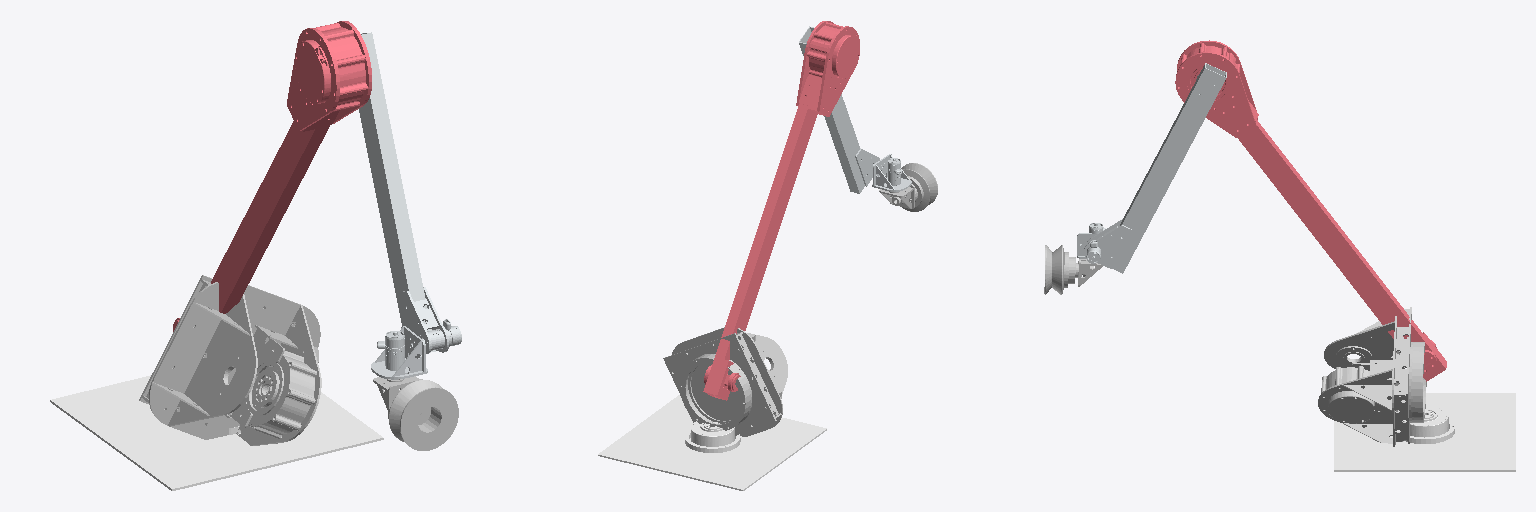
robot.urdf — ur3:
<?xml version="1.0"?>
<!-- This URDF was automatically created by SolidWorks to URDF Exporter! Originally created by [author] ([email redacted]) 
     Commit Version: 1.6.0-4-g7f85cfe  Build Version: 1.6.7995.38578
     For more information, please see http://wiki.ros.org/sw_urdf_exporter -->
<robot
  name="ur3">
  <link
    name="base_link">
    <inertial>
      <origin
        xyz="-0.00236851525411673 -0.0914599040453619 -0.0483488224481423"
        rpy="0 0 0" />
      <mass
        value="0.307597058200449" />
      <inertia
        ixx="0.00204699850221297"
        ixy="-4.93288590145135E-09"
        ixz="6.85614256249405E-09"
        iyy="0.00408883622059482"
        iyz="1.76872405583318E-07"
        izz="0.00204583360048627" />
    </inertial>
    <visual>
      <origin
        xyz="0 0 0"
        rpy="0 0 0" />
      <geometry>
        <mesh
          filename="package://ur3/meshes/base_link.STL" />
      </geometry>
      <material
        name="">
        <color
          rgba="1 1 1 1" />
      </material>
    </visual>
    <collision>
      <origin
        xyz="0 0 0"
        rpy="0 0 0" />
      <geometry>
        <mesh
          filename="package://ur3/meshes/base_link.STL" />
      </geometry>
    </collision>
  </link>
  <link
    name="link1">
    <inertial>
      <origin
        xyz="0.0001636 -0.042632 1.5328E-06"
        rpy="0 0 0" />
      <mass
        value="1.5305" />
      <inertia
        ixx="0.0031739"
        ixy="-2.7582E-06"
        ixz="-1.0021E-07"
        iyy="0.0055642"
        iyz="-7.846E-08"
        izz="0.0028564" />
    </inertial>
    <visual>
      <origin
        xyz="0 0 0"
        rpy="0 0 0" />
      <geometry>
        <mesh
          filename="package://ur3/meshes/link1.STL" />
      </geometry>
      <material
        name="">
        <color
          rgba="0.84706 0.84706 0.84706 1" />
      </material>
    </visual>
    <collision>
      <origin
        xyz="0 0 0"
        rpy="0 0 0" />
      <geometry>
        <mesh
          filename="package://ur3/meshes/link1.STL" />
      </geometry>
    </collision>
  </link>
  <joint
    name="joint1"
    type="continuous">
    <origin
      xyz="-0.0023709 0.0485 0"
      rpy="1.5708 0 -0.047443" />
    <parent
      link="base_link" />
    <child
      link="link1" />
    <axis
      xyz="0 1 0" />
    <limit
      lower="-3.14"
      upper="3.14"
      effort="30"
      velocity="1" />
  </joint>
  <link
    name="link2">
    <inertial>
      <origin
        xyz="-0.40969 3.6574E-06 0.029841"
        rpy="0 0 0" />
      <mass
        value="0.74064" />
      <inertia
        ixx="0.00034396"
        ixy="7.8456E-08"
        ixz="1.6526E-08"
        iyy="0.0088077"
        iyz="1.0021E-07"
        izz="0.0090847" />
    </inertial>
    <visual>
      <origin
        xyz="0 0 0"
        rpy="0 0 0" />
      <geometry>
        <mesh
          filename="package://ur3/meshes/link2.STL" />
      </geometry>
      <material
        name="">
        <color
          rgba="1 0.52941 0.58039 1" />
      </material>
    </visual>
    <collision>
      <origin
        xyz="0 0 0"
        rpy="0 0 0" />
      <geometry>
        <mesh
          filename="package://ur3/meshes/link2.STL" />
      </geometry>
    </collision>
  </link>
  <joint
    name="joint2"
    type="revolute">
    <origin
      xyz="-0.05 0.035944 0"
      rpy="-1.5708 0.62106 -1.5708" />
    <parent
      link="link1" />
    <child
      link="link2" />
    <axis
      xyz="0 0 1" />
    <limit
      lower="-3.14"
      upper="3.14"
      effort="30"
      velocity="1" />
  </joint>
  <link
    name="link3">
    <inertial>
      <origin
        xyz="0.01335 -0.040537 0.2233"
        rpy="0 0 0" />
      <mass
        value="0.3145" />
      <inertia
        ixx="0.0024763"
        ixy="2.5218E-08"
        ixz="-1.4224E-06"
        iyy="0.0025071"
        iyz="4.7937E-08"
        izz="6.2526E-05" />
    </inertial>
    <visual>
      <origin
        xyz="0 0 0"
        rpy="0 0 0" />
      <geometry>
        <mesh
          filename="package://ur3/meshes/link3.STL" />
      </geometry>
      <material
        name="">
        <color
          rgba="0.89804 0.91765 0.92941 1" />
      </material>
    </visual>
    <collision>
      <origin
        xyz="0 0 0"
        rpy="0 0 0" />
      <geometry>
        <mesh
          filename="package://ur3/meshes/link3.STL" />
      </geometry>
    </collision>
  </link>
  <joint
    name="joint3"
    type="continuous">
    <origin
      xyz="-0.61685 0 0.029073"
      rpy="-1.5708 0 -2.6349" />
    <parent
      link="link2" />
    <child
      link="link3" />
    <axis
      xyz="0 -1 0" />
    <limit
      lower="-3.14"
      upper="3.14"
      effort="30"
      velocity="1" />
  </joint>
  <link
    name="link4">
    <inertial>
      <origin
        xyz="0.0063803 0.0059501 0.0098396"
        rpy="0 0 0" />
      <mass
        value="0.13985" />
      <inertia
        ixx="2.1313E-05"
        ixy="4.4157E-06"
        ixz="-3.2872E-07"
        iyy="2.1316E-05"
        iyz="-1.6133E-07"
        izz="2.1126E-05" />
    </inertial>
    <visual>
      <origin
        xyz="0 0 0"
        rpy="0 0 0" />
      <geometry>
        <mesh
          filename="package://ur3/meshes/link4.STL" />
      </geometry>
      <material
        name="">
        <color
          rgba="0.89804 0.91765 0.92941 1" />
      </material>
    </visual>
    <collision>
      <origin
        xyz="0 0 0"
        rpy="0 0 0" />
      <geometry>
        <mesh
          filename="package://ur3/meshes/link4.STL" />
      </geometry>
    </collision>
  </link>
  <joint
    name="joint4"
    type="continuous">
    <origin
      xyz="0.04 0 0.35185"
      rpy="1.5708 -0.35974 3.1416" />
    <parent
      link="link3" />
    <child
      link="link4" />
    <axis
      xyz="0 0 1" />
    <limit
      lower="-3.14"
      upper="3.14"
      effort="10"
      velocity="1" />
  </joint>
  <link
    name="link5">
    <inertial>
      <origin
        xyz="-0.049458 0.039637 -1.7969E-11"
        rpy="0 0 0" />
      <mass
        value="0.19368" />
      <inertia
        ixx="0.00011139"
        ixy="3.4453E-07"
        ixz="1.2508E-14"
        iyy="9.9753E-05"
        iyz="-1.1015E-14"
        izz="9.7213E-05" />
    </inertial>
    <visual>
      <origin
        xyz="0 0 0"
        rpy="0 0 0" />
      <geometry>
        <mesh
          filename="package://ur3/meshes/link5.STL" />
      </geometry>
      <material
        name="">
        <color
          rgba="0.84706 0.84706 0.84706 1" />
      </material>
    </visual>
    <collision>
      <origin
        xyz="0 0 0"
        rpy="0 0 0" />
      <geometry>
        <mesh
          filename="package://ur3/meshes/link5.STL" />
      </geometry>
    </collision>
  </link>
  <joint
    name="joint5"
    type="continuous">
    <origin
      xyz="0.01525 0.01525 0.014096"
      rpy="0 -0.049219 -0.7854" />
    <parent
      link="link4" />
    <child
      link="link5" />
    <axis
      xyz="0 1 0" />
    <limit
      lower="-3.14"
      upper="3.14"
      effort="10"
      velocity="1" />
  </joint>
</robot>

--- Render facts (derived) ---
The picture shows the robot from 3 angles, left to right: view 1: azimuth 30°, elevation 25°; view 2: azimuth 150°, elevation 25°; view 3: azimuth 270°, elevation 25°; orthographic projection.
Model ur3 with 6 links and 5 joints (1 revolute, 4 continuous), rooted at base_link, posed every joint at zero.
Links seen in each view (by area): view 1: link1, base_link, link2, link3, link5, link4; view 2: link2, base_link, link1, link3, link5, link4; view 3: link2, base_link, link1, link3, link5.
Boxes of the visible links, left/top/right/bottom form: link1: left=139, top=275, right=321, bottom=445; base_link: left=50, top=375, right=383, bottom=490; link2: left=173, top=21, right=371, bottom=331; link3: left=359, top=32, right=461, bottom=353; link5: left=373, top=376, right=458, bottom=450; link4: left=371, top=326, right=427, bottom=379; link2: left=703, top=21, right=859, bottom=400; base_link: left=598, top=395, right=826, bottom=490; link1: left=663, top=327, right=787, bottom=436; link3: left=799, top=26, right=882, bottom=193; link5: left=879, top=163, right=937, bottom=211; link4: left=872, top=154, right=911, bottom=191; link2: left=1175, top=40, right=1446, bottom=381; base_link: left=1334, top=393, right=1515, bottom=471; link1: left=1318, top=307, right=1426, bottom=446; link3: left=1084, top=63, right=1226, bottom=273; link5: left=1044, top=245, right=1102, bottom=294.
Bounding box of the posed robot: 0.3 × 0.779 × 0.7111 m (x, y, z).
Meshes: 6 distinct files referenced, 6 mesh visuals loaded (6 binary STL).